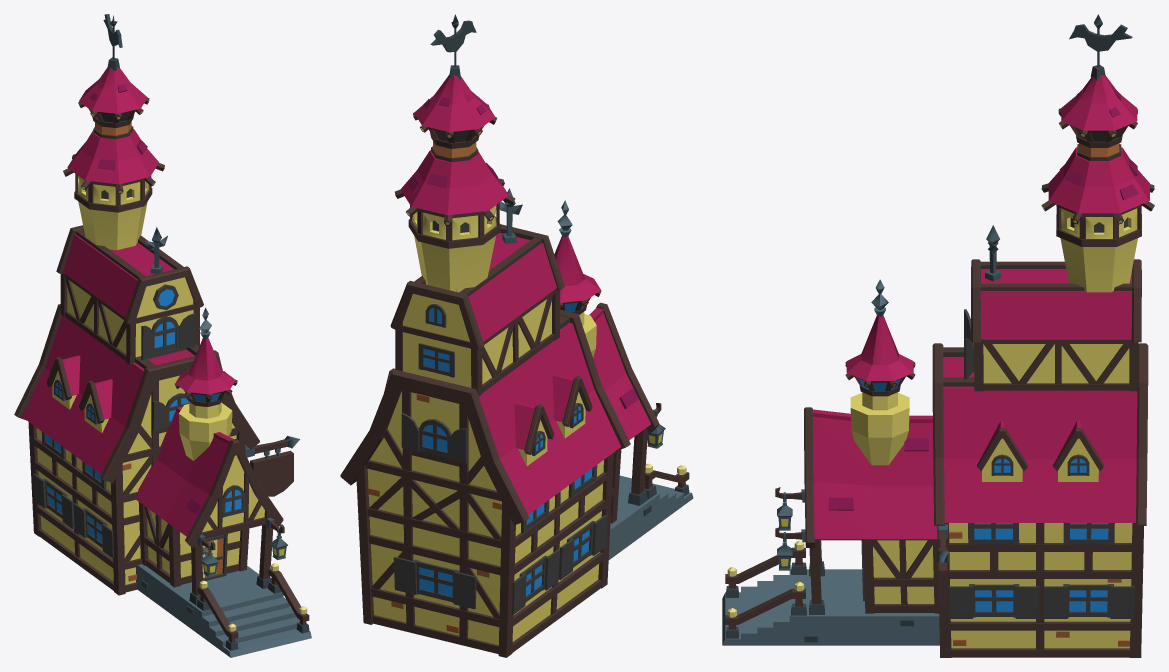
The model's file is House_5-5.fbx.
3 renders of one model, left to right at view 1: azimuth 30°, elevation 25°; view 2: azimuth 150°, elevation 25°; view 3: azimuth 270°, elevation 25°, orthographic. The views are drawn at different scales.
Parts seen in each view (by area): view 1: Town_BG_Bd_House06_A.002; view 2: Town_BG_Bd_House06_A.002; view 3: Town_BG_Bd_House06_A.002.
Part boxes in pixels (bbox=[...]): Town_BG_Bd_House06_A.002: bbox=[14, 14, 311, 657]; Town_BG_Bd_House06_A.002: bbox=[340, 14, 693, 657]; Town_BG_Bd_House06_A.002: bbox=[722, 14, 1154, 657].
Bounding box in the file's own units: 713 × 1754 × 1128.
